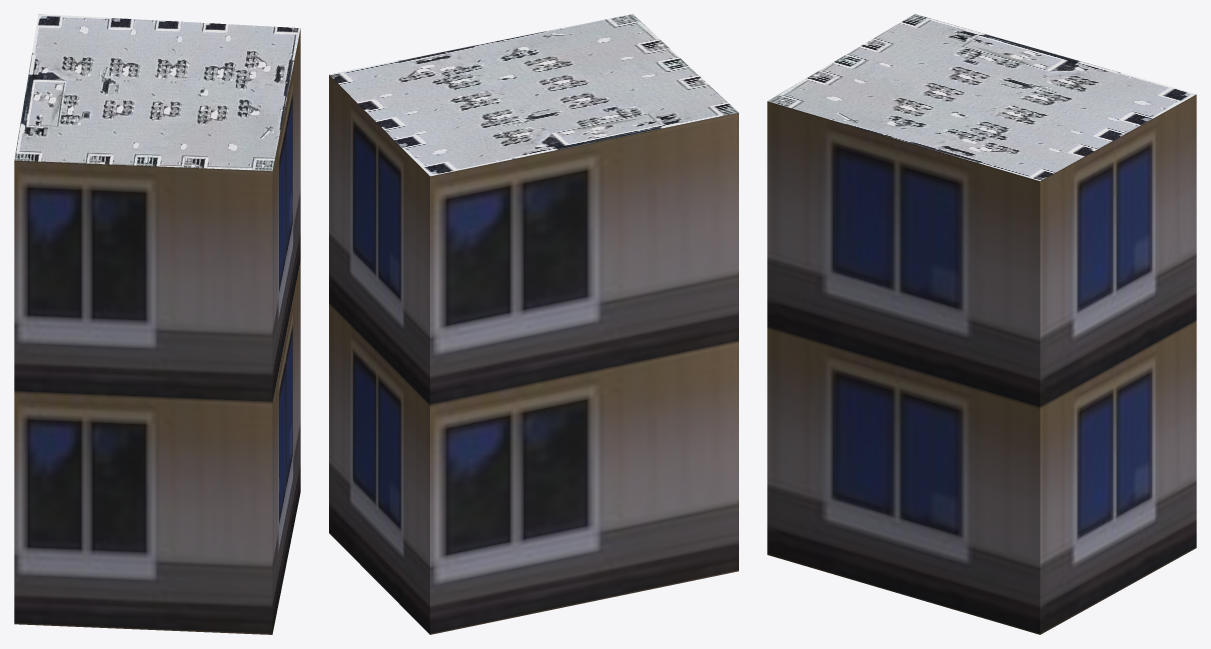
Rendered from ResTex__2394.fbx.
3 renders of one model, left to right at view 1: azimuth 30°, elevation 25°; view 2: azimuth 150°, elevation 25°; view 3: azimuth 270°, elevation 25°, orthographic. The views are drawn at different scales.
Parts seen in each view (by area): view 1: CityEngineMaterial_5_m, CityEngineMaterial_8_m; view 2: CityEngineMaterial_5_m, CityEngineMaterial_8_m; view 3: CityEngineMaterial_5_m, CityEngineMaterial_8_m.
Part boxes in pixels (box(x1,y1,x2,y2)): CityEngineMaterial_5_m: box(14, 29, 300, 634); CityEngineMaterial_8_m: box(14, 14, 300, 171); CityEngineMaterial_5_m: box(329, 75, 738, 634); CityEngineMaterial_8_m: box(329, 14, 738, 176); CityEngineMaterial_5_m: box(767, 94, 1196, 634); CityEngineMaterial_8_m: box(767, 14, 1196, 181).
Bounding box in the file's own units: 4.75 × 6 × 5.15.
Materials: 2 (2 with a texture image).
